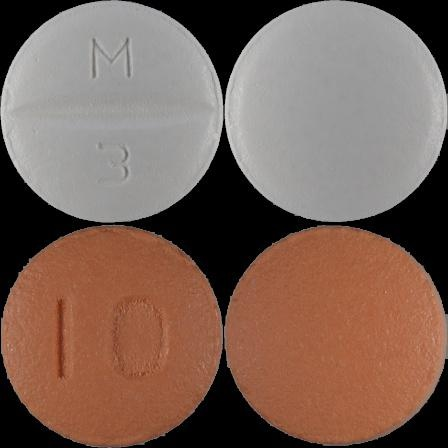0615-7825: (0, 0, 224, 224)
